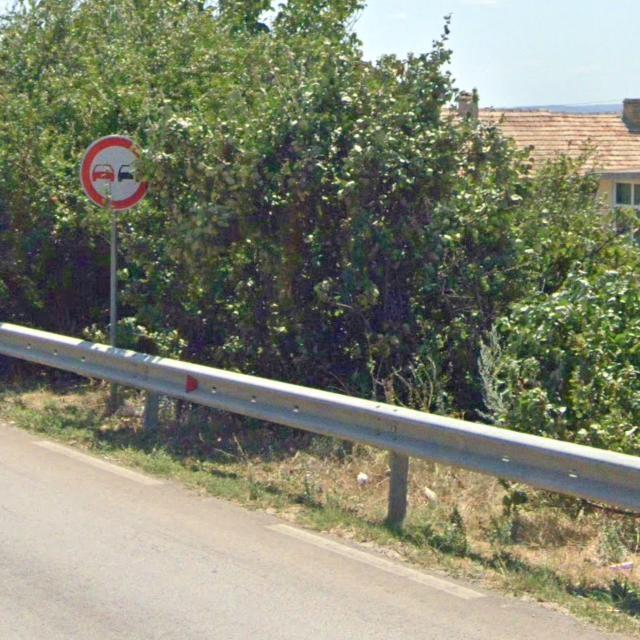forb_overtake: (80, 135, 149, 210)
